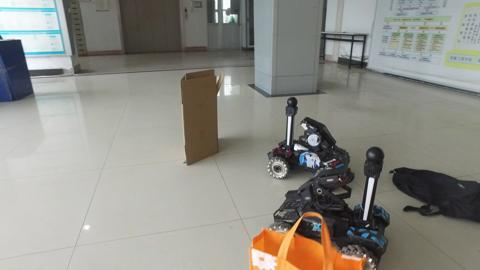box: (177, 67, 222, 167)
chariot: (277, 146, 400, 266), (270, 93, 349, 178)
